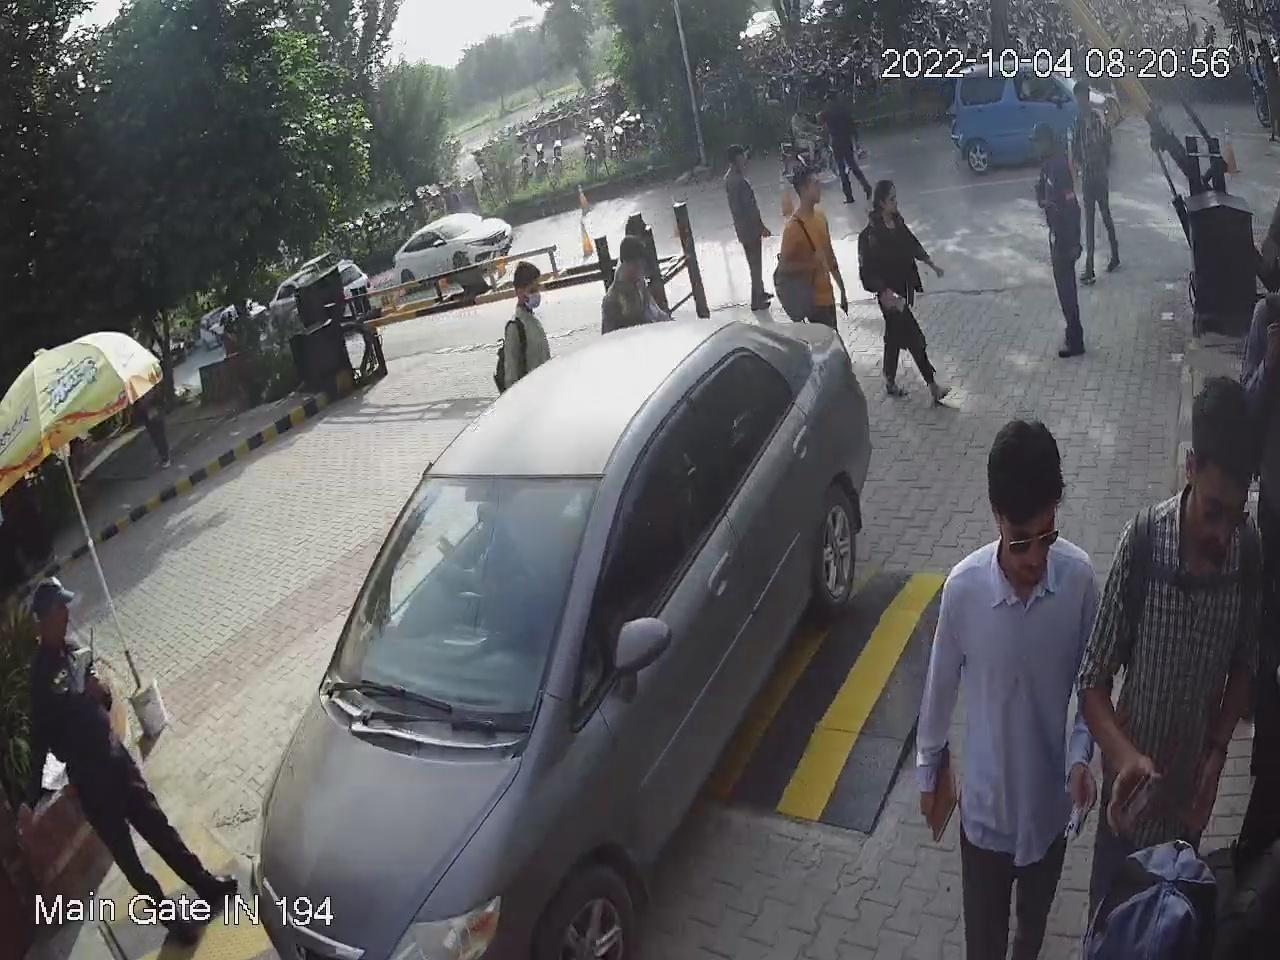windshield: (324, 460, 613, 750)
